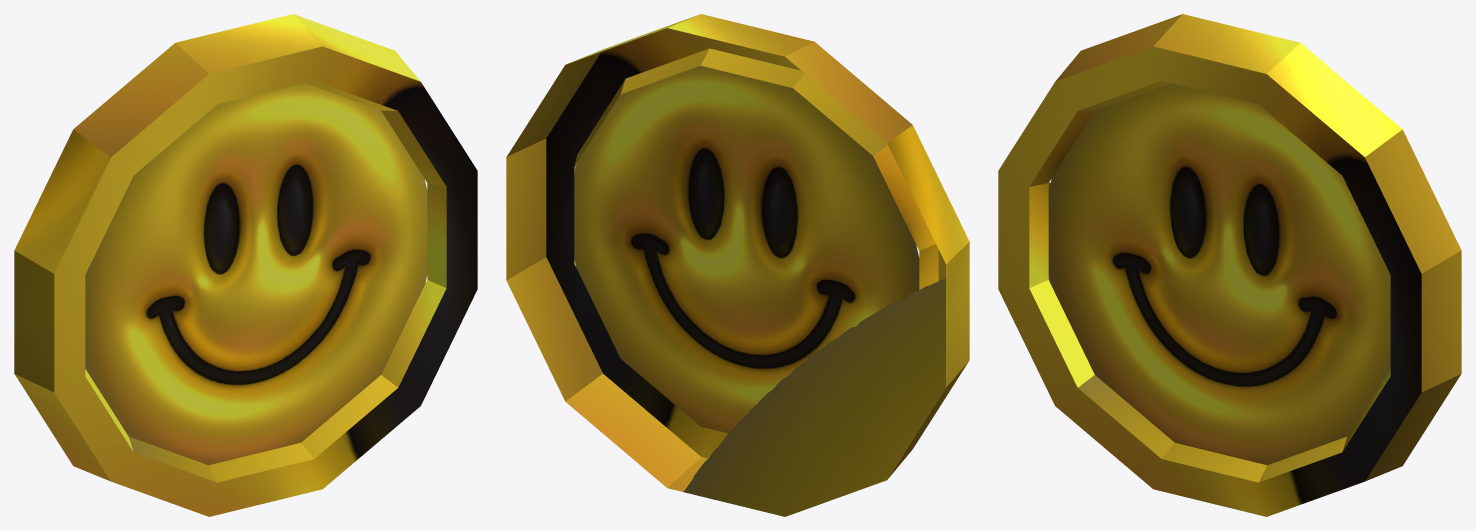
File: clock_smiley2.fbx
3 renders of one model, left to right at view 1: azimuth 30°, elevation 25°; view 2: azimuth 150°, elevation 25°; view 3: azimuth 330°, elevation 25°, orthographic.
Visible parts, largest first — view 1: Object_6; view 2: Object_6; view 3: Object_6.
Boxes of the visible parts, x1=… form: Object_6: x1=14, y1=14, x2=477, y2=516; Object_6: x1=506, y1=14, x2=969, y2=516; Object_6: x1=998, y1=14, x2=1461, y2=516.
Size of the model in its own units: 100 by 100 by 12.5.
1 material, 1 textured.
